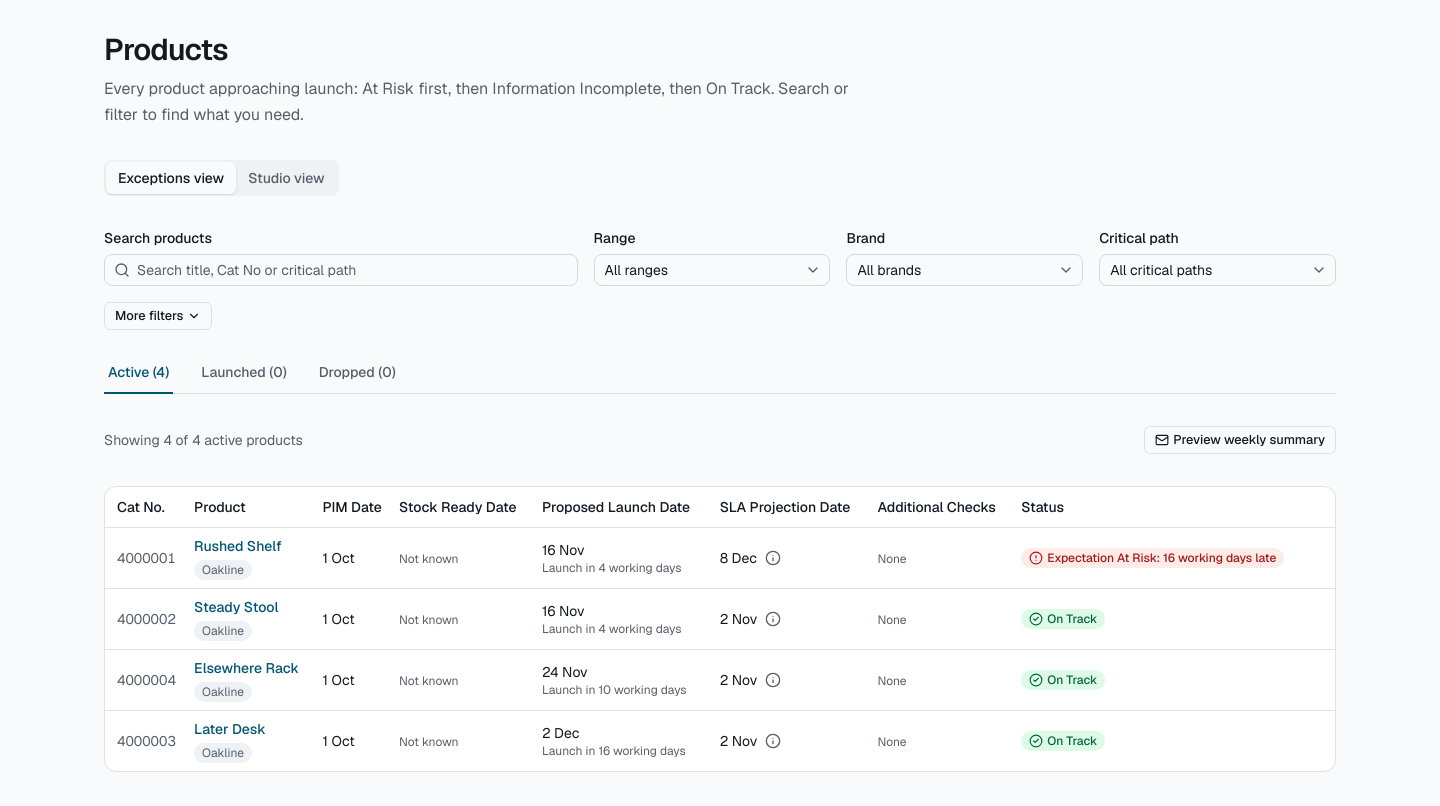
Test: ProductsView critical path summary › lists the other launch dates, with counts, on request
The image size is (1440, 806).
Click the dropdown labelled "critical path". click: (1218,270)
box: [1099,254,1336,286]
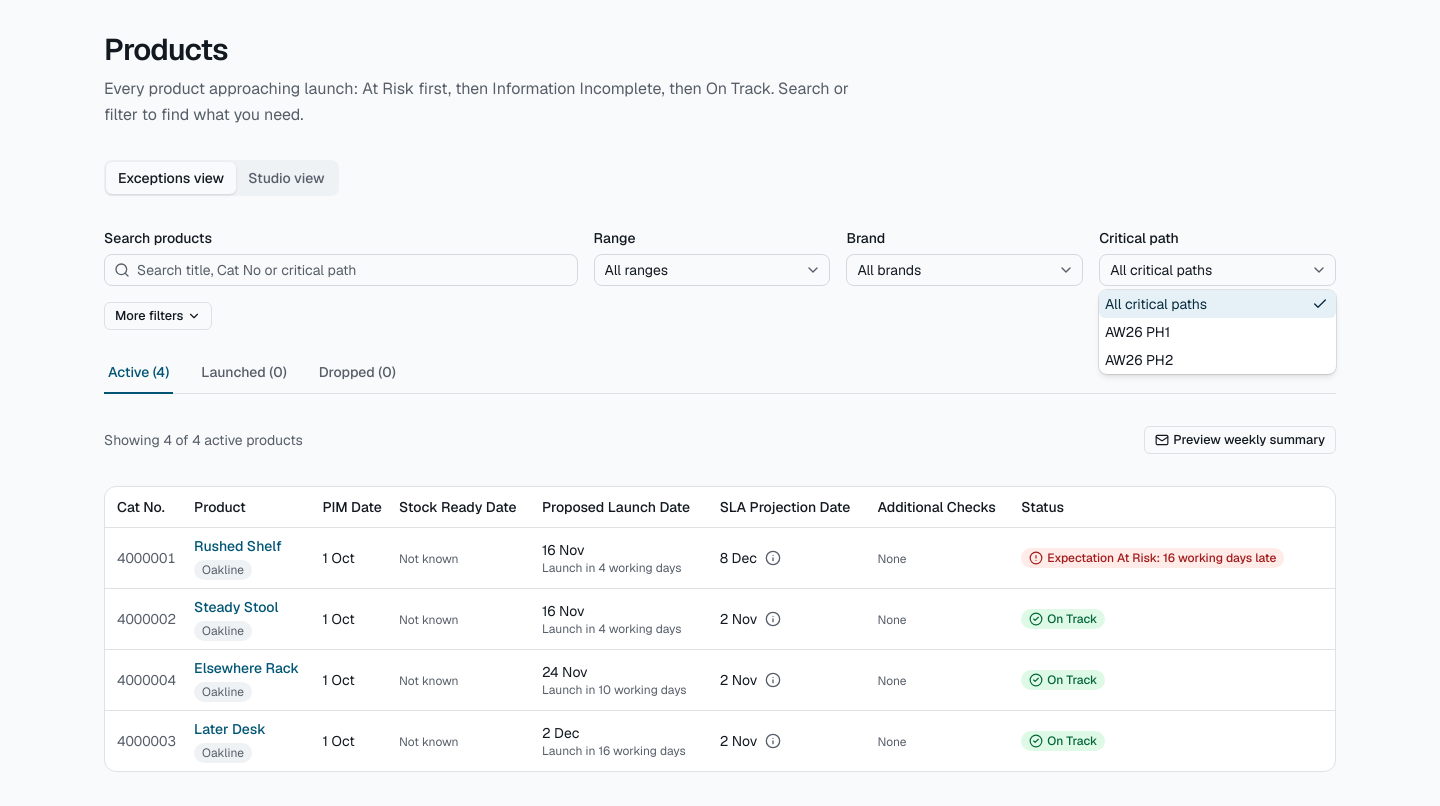
Click the option "AW26 PH1". click: (1138,332)
box: [1105,323,1170,341]
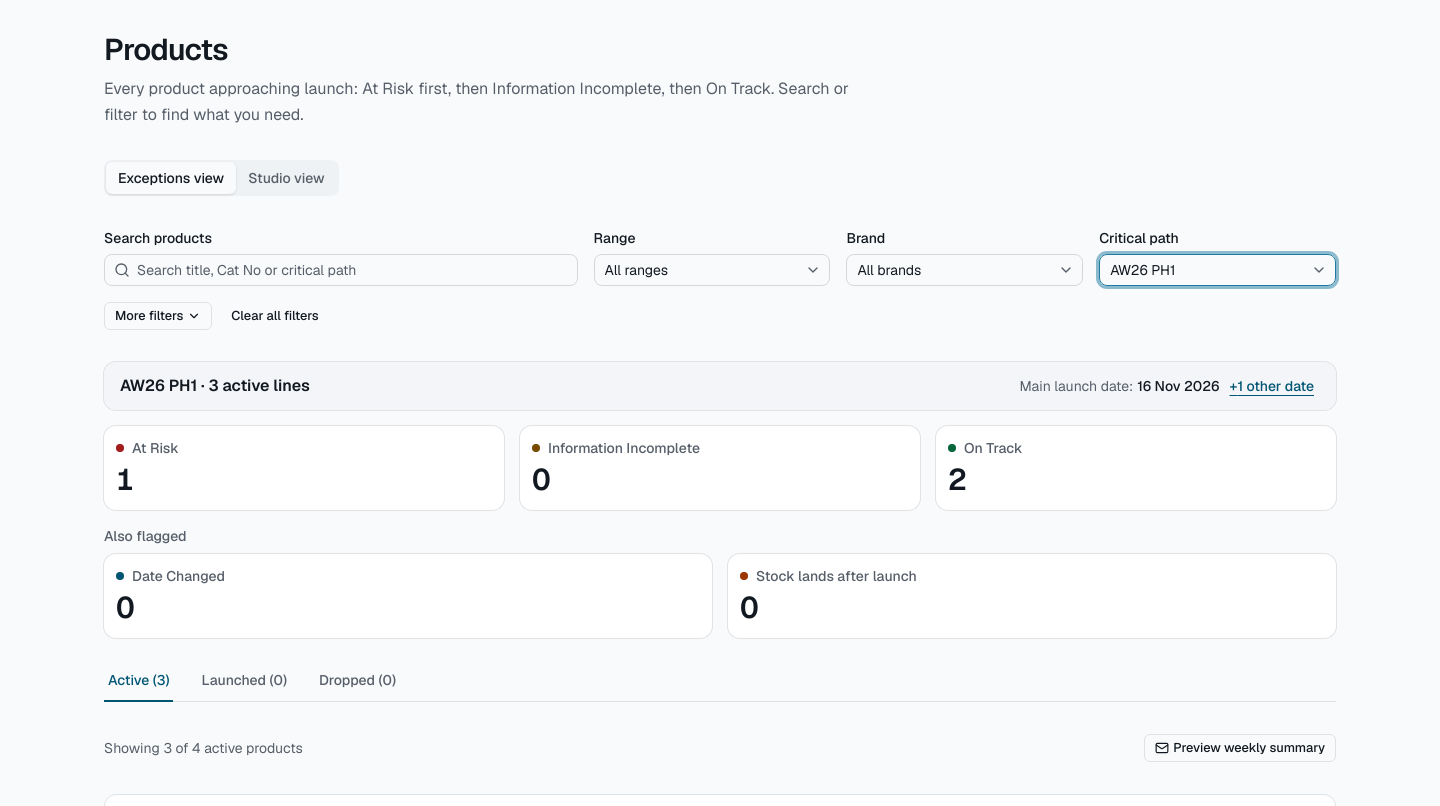
Click the button "+1 other date". click: (1272,386)
box: [1224,374,1320,398]
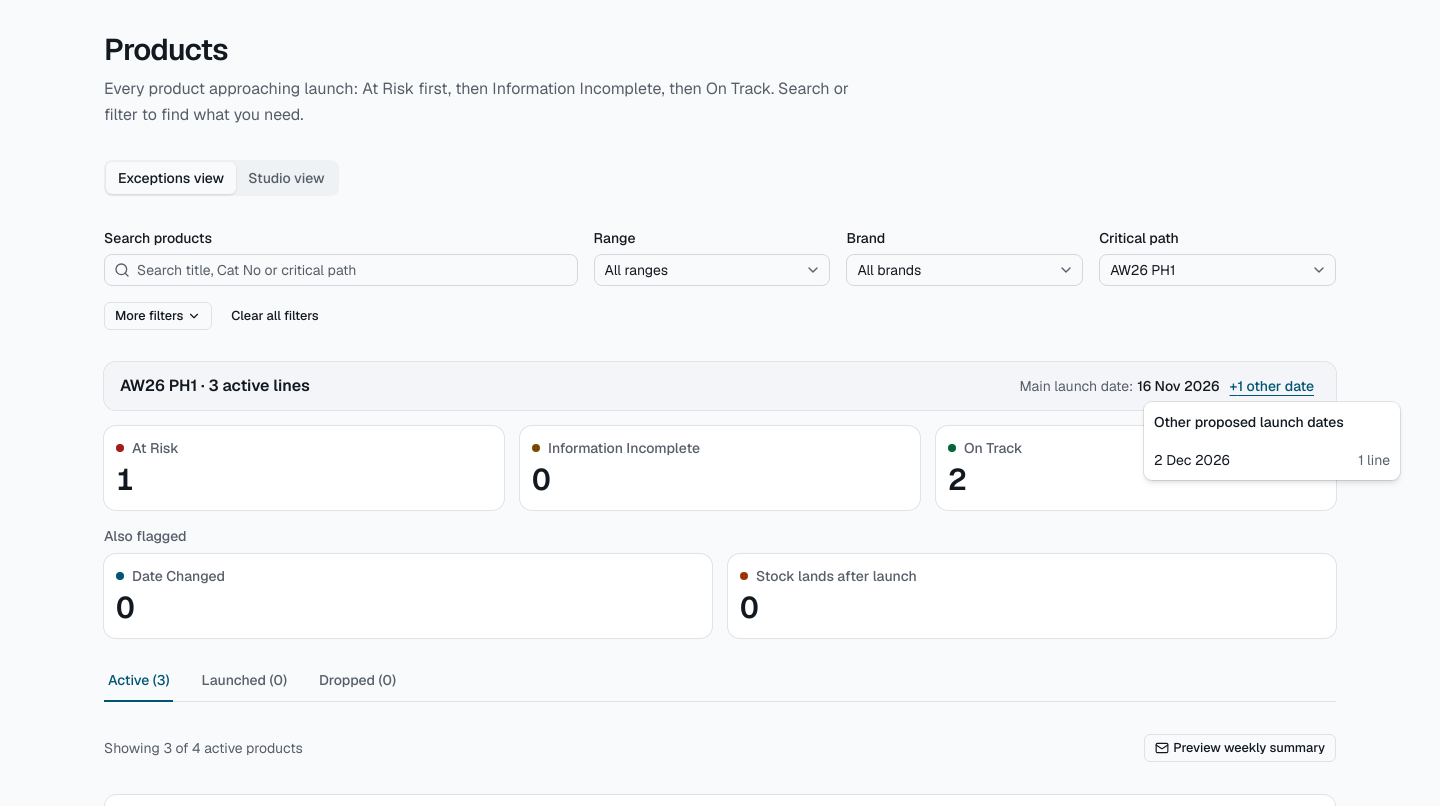
Expected: the text "Other proposed launch dates" is shown, [1154,413,1344,431]
Expected: the text "2 Dec 2026" is shown, [1154,450,1230,470]
Expected: the text "1 line" is shown, [1358,450,1390,470]
